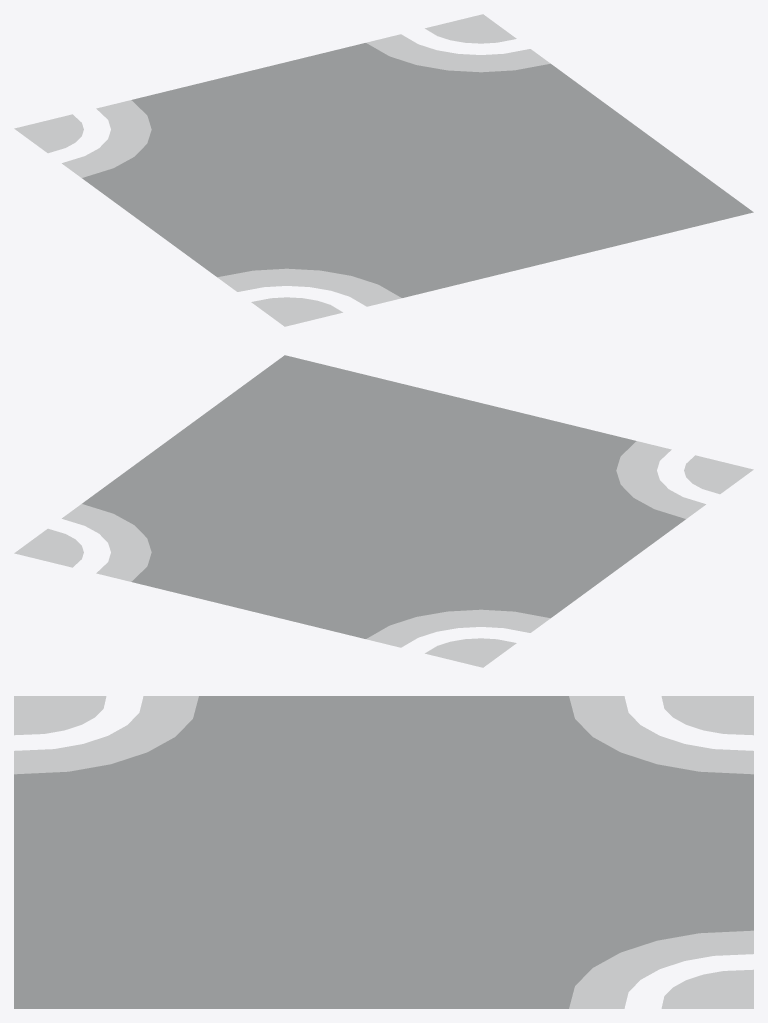
File: Ceiling_type_A_039.glb
3 renders of one model, top to bottom at view 1: azimuth 30°, elevation 25°; view 2: azimuth 150°, elevation 25°; view 3: azimuth 270°, elevation 25°, orthographic. The views are drawn at different scales.
Visible parts, largest first — view 1: Ceiling_type_A_039; view 2: Ceiling_type_A_039; view 3: Ceiling_type_A_039.
Part boxes in pixels (x1,y1,x2,y2): Ceiling_type_A_039: (14,14,753,326); Ceiling_type_A_039: (14,355,753,667); Ceiling_type_A_039: (14,696,753,1008).
Bounding box in the file's own units: 4 × 0.012 × 4.
Materials: 2 (2 with a texture image).
